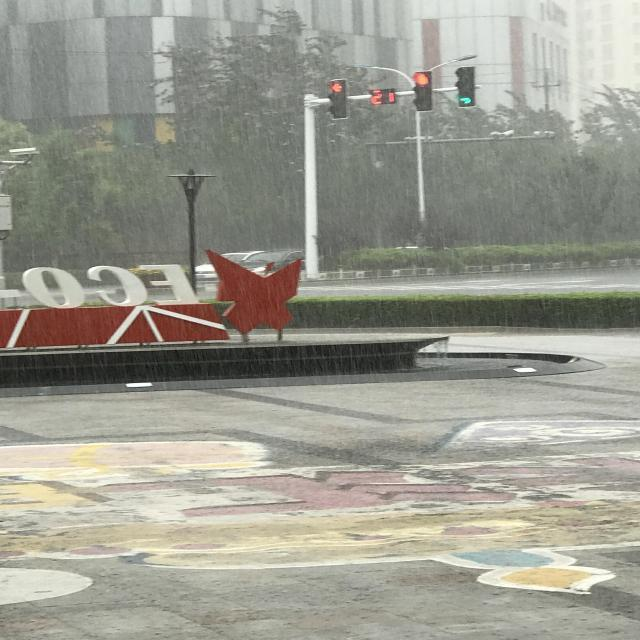car: (250, 338, 276, 394), (251, 398, 276, 448)
